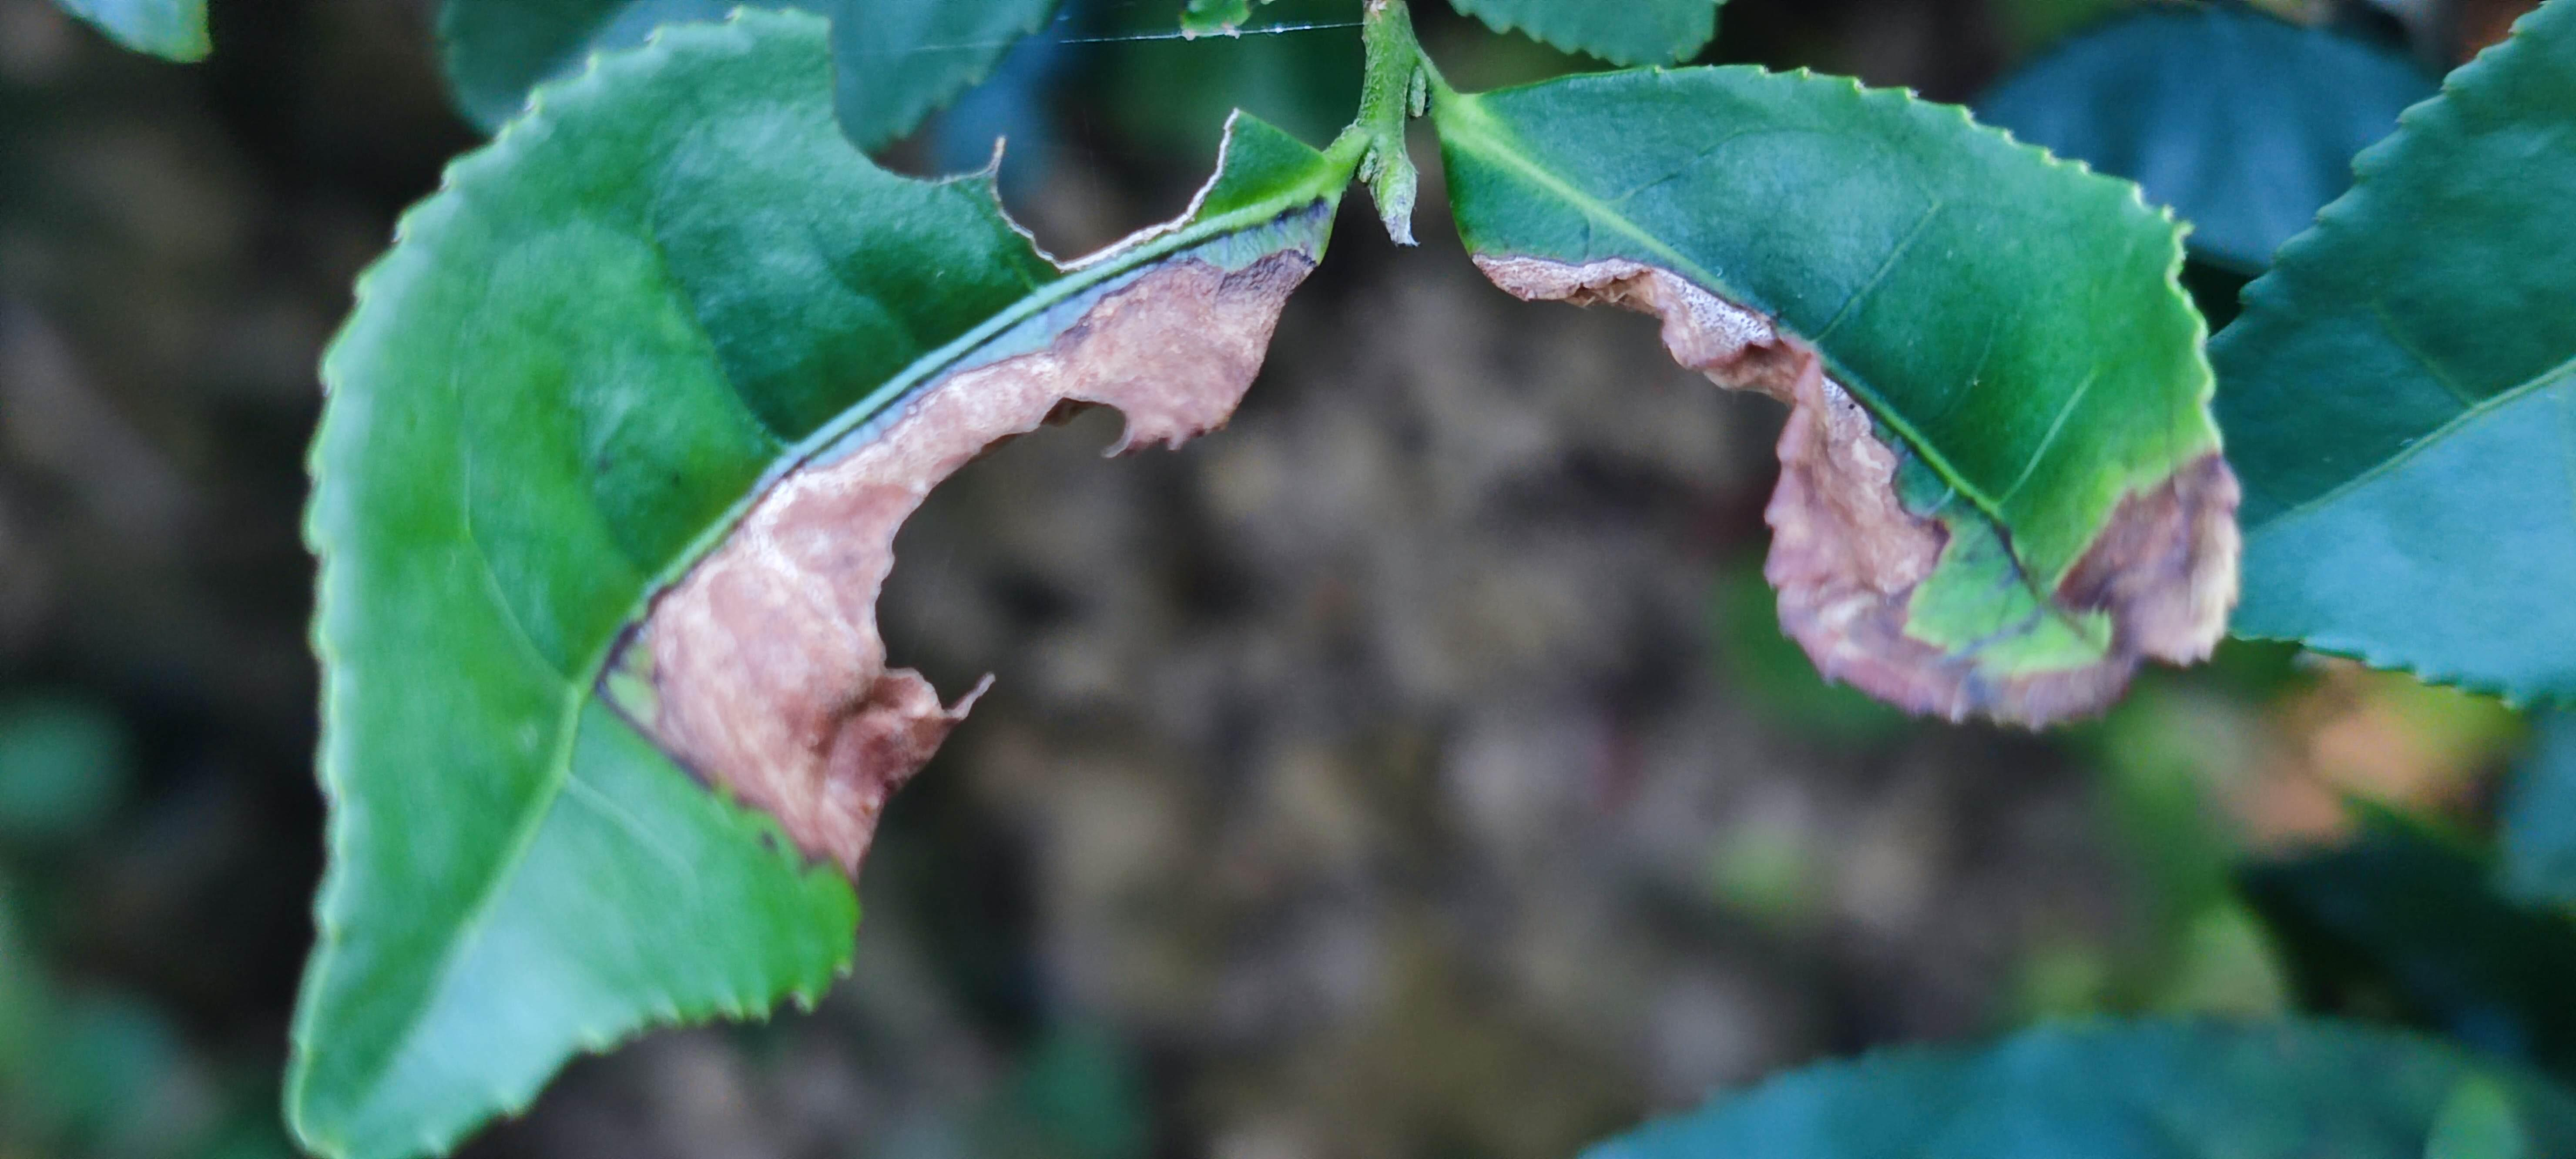tanju_high: (276, 8, 1345, 1152), (1441, 59, 2247, 740)
